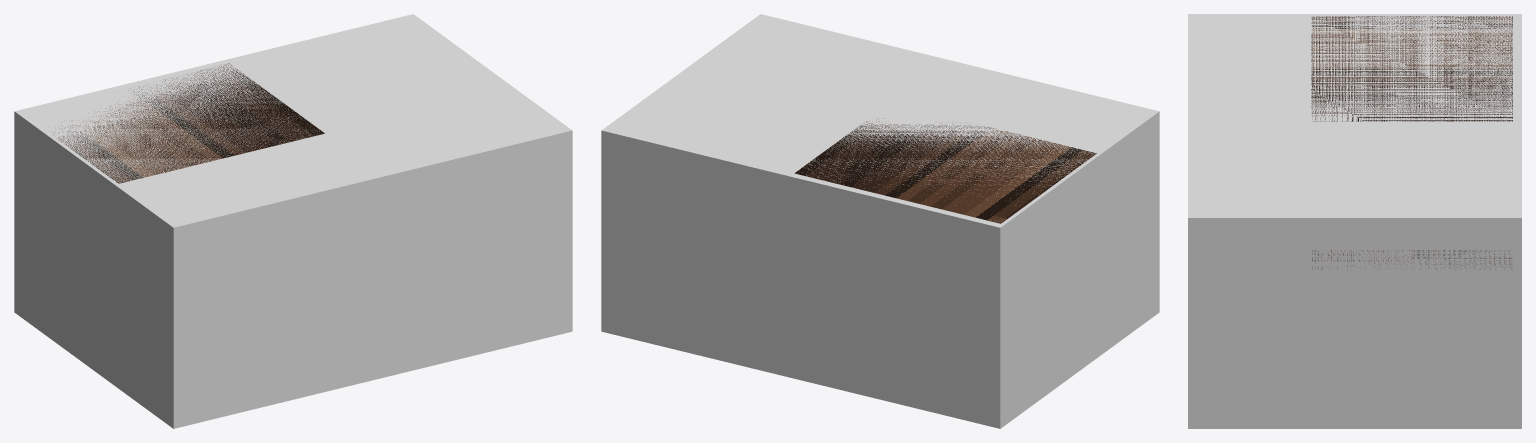
Rendered from JP_Prop_TeaChests_A.glb.
3 renders of one model, left to right at view 1: azimuth 30°, elevation 25°; view 2: azimuth 150°, elevation 25°; view 3: azimuth 270°, elevation 25°, orthographic. The views are drawn at different scales.
Parts seen in each view (by area): view 1: COL_JP_Prop_TeaChests_A, JP_Prop_TeaChests_A; view 2: COL_JP_Prop_TeaChests_A, JP_Prop_TeaChests_A; view 3: COL_JP_Prop_TeaChests_A, JP_Prop_TeaChests_A.
Boxes of the visible parts, x1,y1,x2,y2 form: COL_JP_Prop_TeaChests_A: [14, 14, 572, 428]; JP_Prop_TeaChests_A: [51, 63, 324, 183]; COL_JP_Prop_TeaChests_A: [601, 14, 1159, 428]; JP_Prop_TeaChests_A: [794, 118, 1096, 223]; COL_JP_Prop_TeaChests_A: [1188, 14, 1521, 428]; JP_Prop_TeaChests_A: [1311, 16, 1512, 269].
Size of the model in its own units: 1.1 by 0.53 by 0.76.
Materials: 3 (3 with a texture image).
